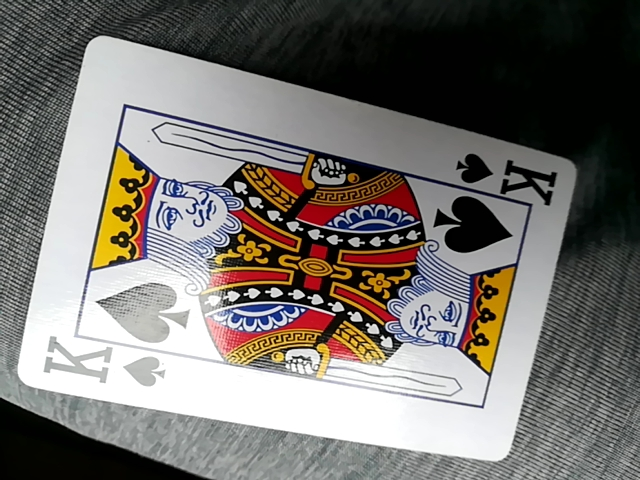ht k: (13, 37, 585, 467)
